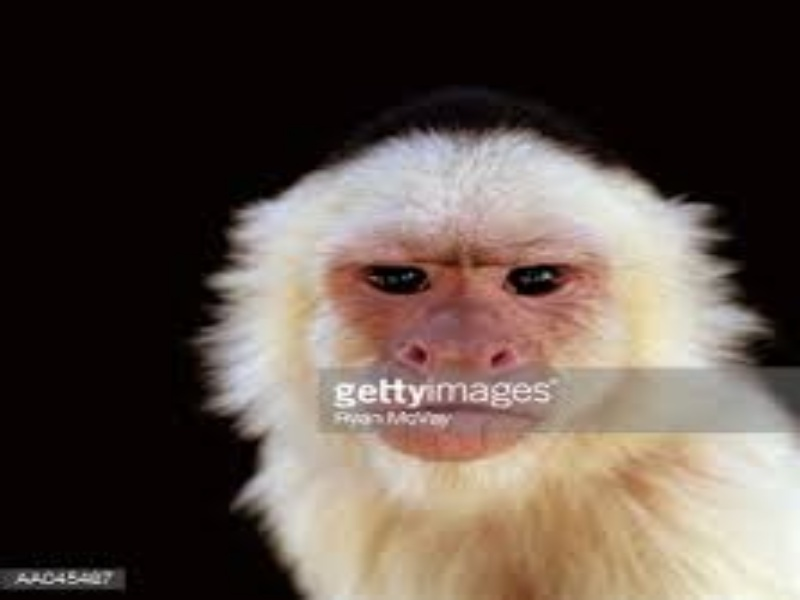monkey: (180, 68, 739, 600)
